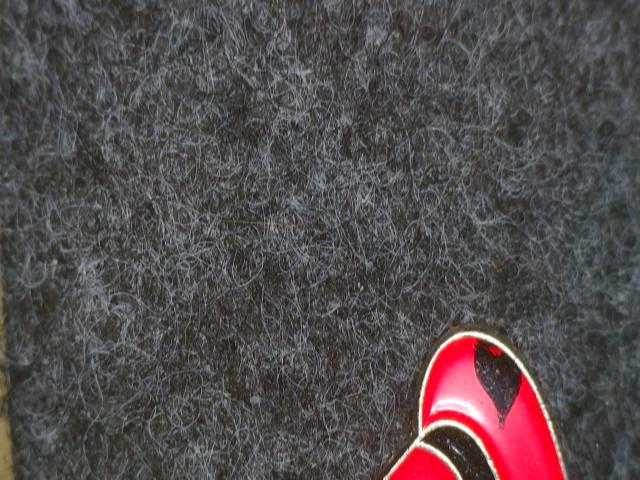Red-Hat: (348, 286, 592, 480)
Scratch: (459, 317, 538, 436)
